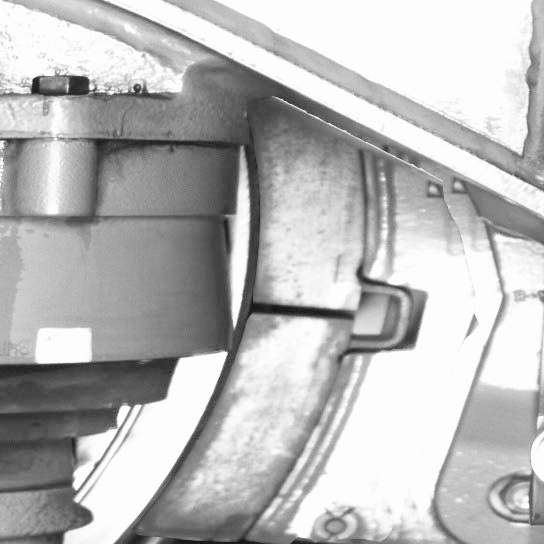ClosedKnifeSwitch: (93, 139, 357, 543)
